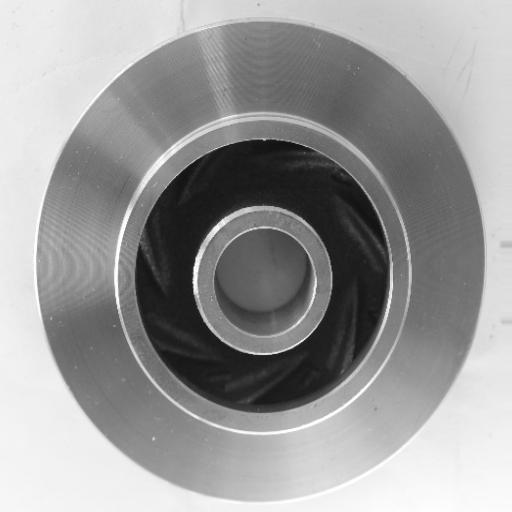polished_casting: (39, 19, 486, 505)
